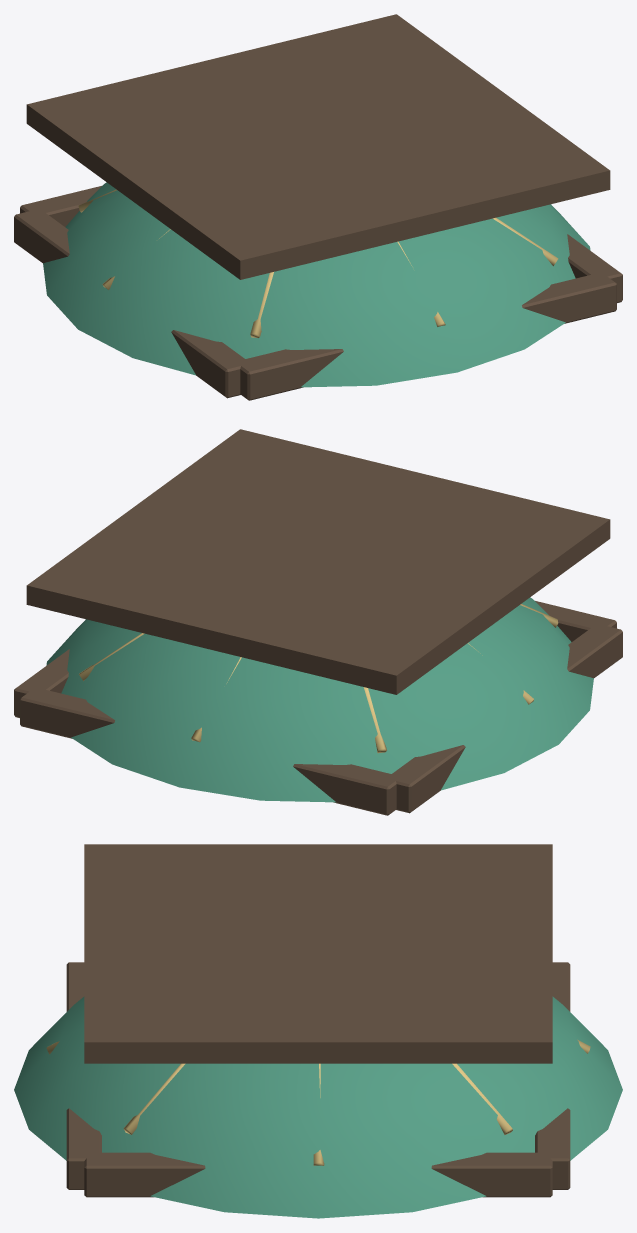
The model's file is ceil_ex_dome.glb.
3 renders of one model, top to bottom at view 1: azimuth 30°, elevation 25°; view 2: azimuth 150°, elevation 25°; view 3: azimuth 270°, elevation 25°, orthographic. The views are drawn at different scales.
Parts seen in each view (by area): view 1: ceil_ex_dome; view 2: ceil_ex_dome; view 3: ceil_ex_dome.
Boxes of the visible parts, x1=… form: ceil_ex_dome: x1=14, y1=14, x2=622, y2=400; ceil_ex_dome: x1=14, y1=429, x2=622, y2=815; ceil_ex_dome: x1=14, y1=844, x2=622, y2=1218.
Size of the model in its own units: 5.2 by 1.4 by 5.2.
